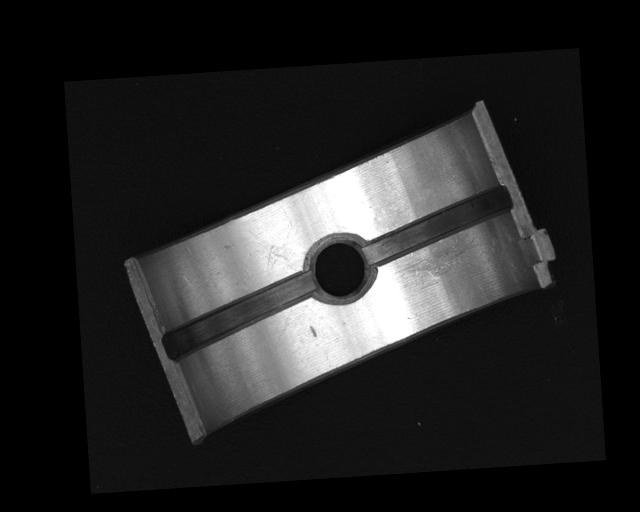bruise: (309, 324, 318, 339)
gap: (161, 270, 318, 362), (361, 184, 515, 263)
hole: (304, 232, 375, 305)
scratch: (392, 233, 484, 282)
